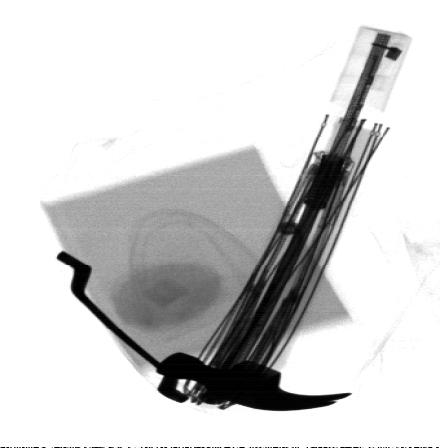Hammer: (152, 115, 382, 411)
Wrench: (58, 251, 190, 403)
